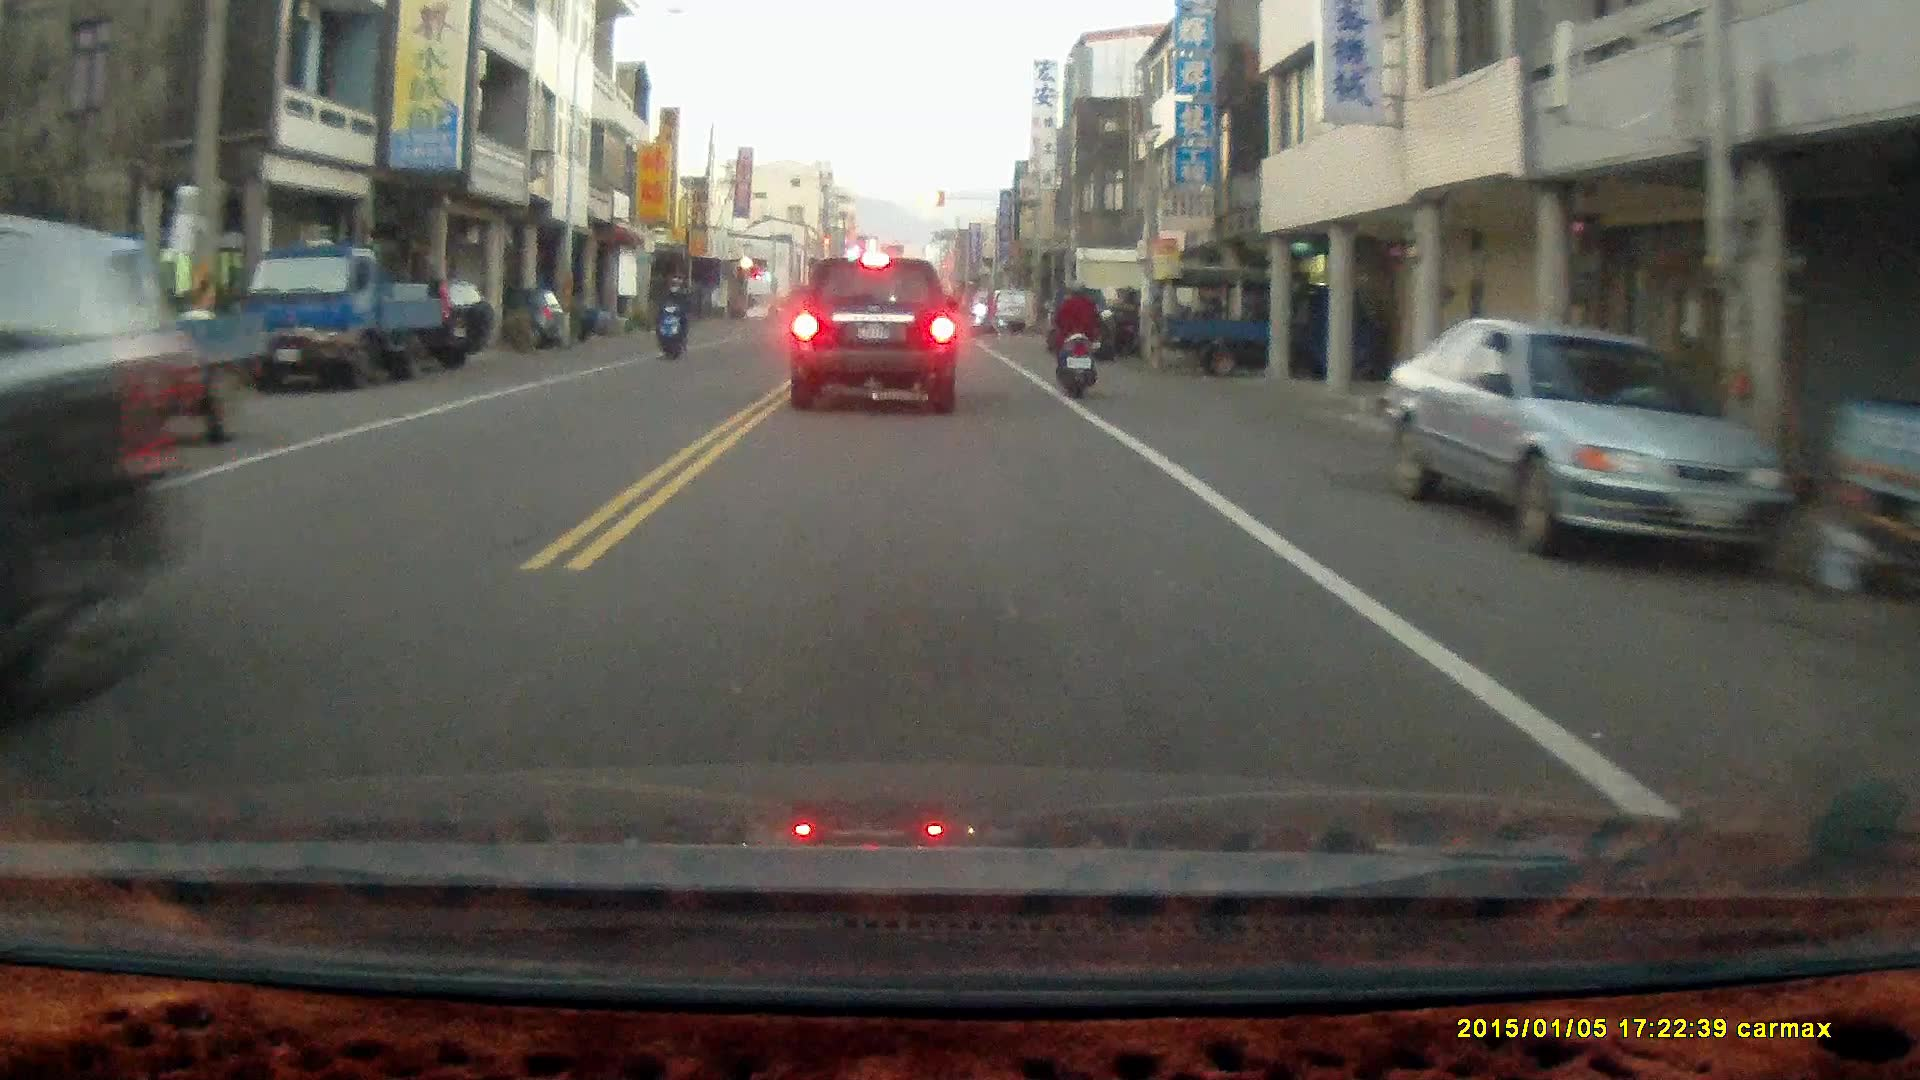rider: (1051, 276, 1101, 398), (653, 270, 693, 358), (969, 284, 1008, 332)
vehicle: (1382, 317, 1801, 582), (1156, 259, 1401, 378), (790, 255, 961, 414), (248, 245, 444, 384)
